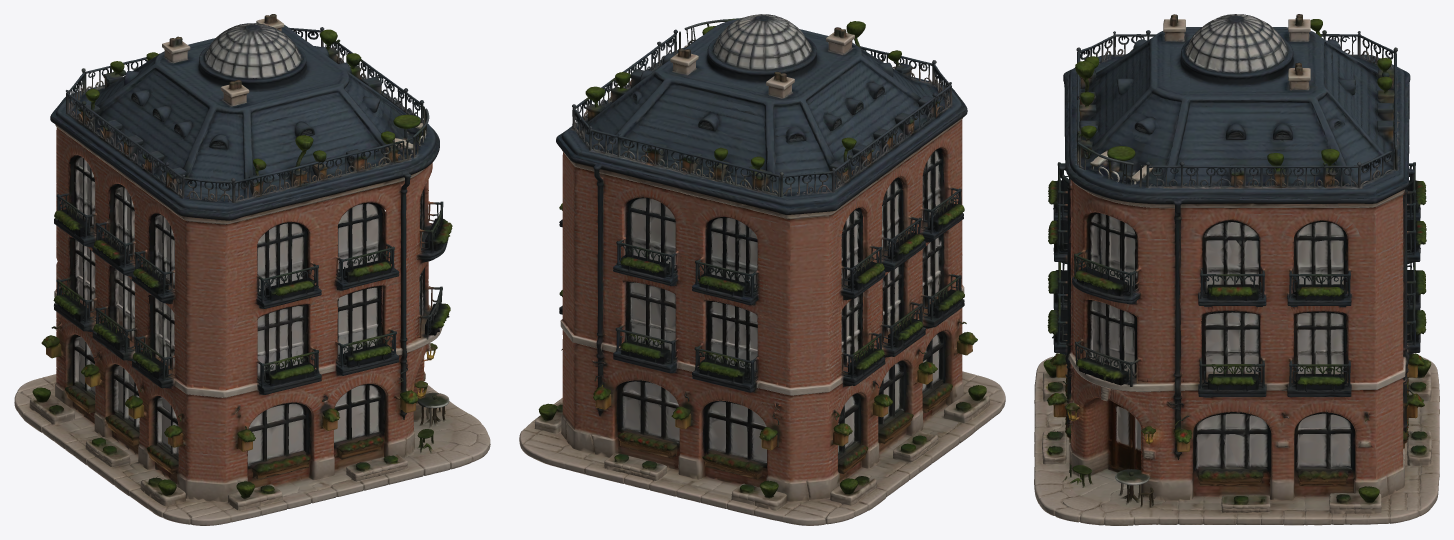
File: hotelcnr.glb
3 renders of one model, left to right at view 1: azimuth 30°, elevation 25°; view 2: azimuth 150°, elevation 25°; view 3: azimuth 270°, elevation 25°, orthographic. The views are drawn at different scales.
Visible parts, largest first — view 1: tripo_node_49c90adb-3e5c-4162-a032-27ce738b3c23; view 2: tripo_node_49c90adb-3e5c-4162-a032-27ce738b3c23; view 3: tripo_node_49c90adb-3e5c-4162-a032-27ce738b3c23.
Boxes of the visible parts, x1,y1,x2,y2 form: tripo_node_49c90adb-3e5c-4162-a032-27ce738b3c23: [14, 14, 490, 525]; tripo_node_49c90adb-3e5c-4162-a032-27ce738b3c23: [519, 14, 1005, 525]; tripo_node_49c90adb-3e5c-4162-a032-27ce738b3c23: [1034, 14, 1439, 525].
Bounding box in the file's own units: 1.06 × 1.2 × 1.05.
Materials: 1 (1 with a texture image).
